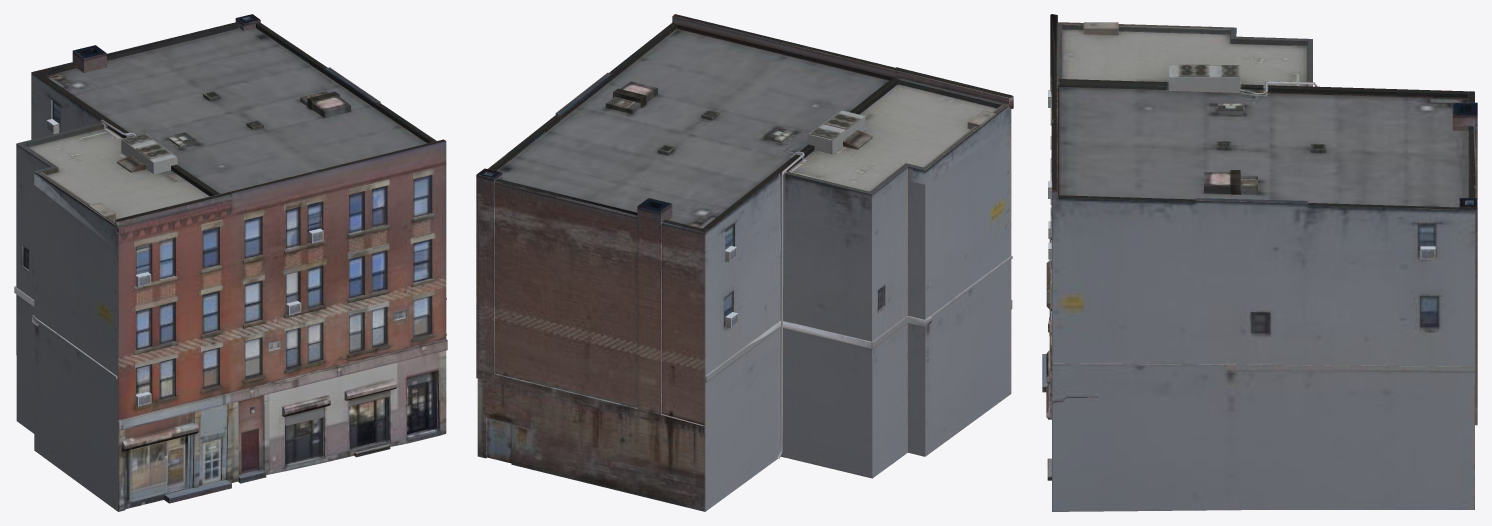
Rendered from lic_brooklyn_corner.glb.
The picture shows the model from 3 angles, left to right: view 1: azimuth 30°, elevation 25°; view 2: azimuth 150°, elevation 25°; view 3: azimuth 270°, elevation 25°; orthographic projection. The views are drawn at different scales.
Parts seen in each view (by area): view 1: building; view 2: building; view 3: building.
Boxes of the visible parts, bbox=[...] form: building: bbox=[14, 14, 447, 511]; building: bbox=[476, 14, 1013, 511]; building: bbox=[1042, 14, 1477, 511].
Bounding box in the file's own units: 17.71 × 14.85 × 18.21.
1 material, 1 textured.
